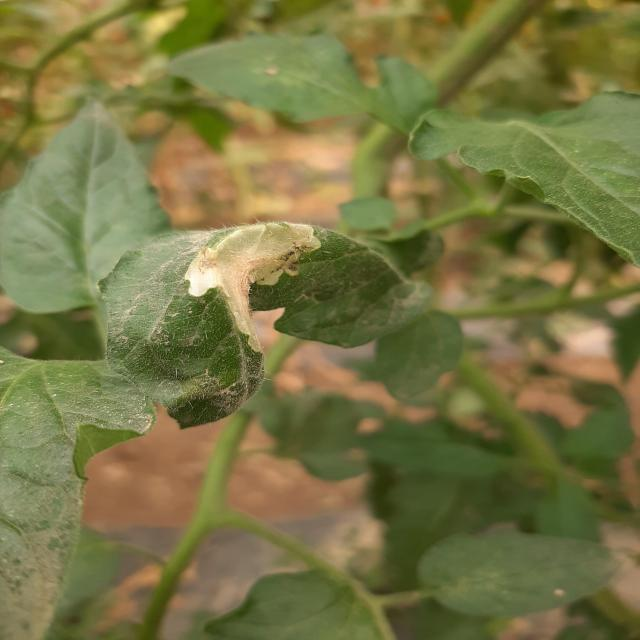Tuta absoluta: (179, 217, 336, 369)
